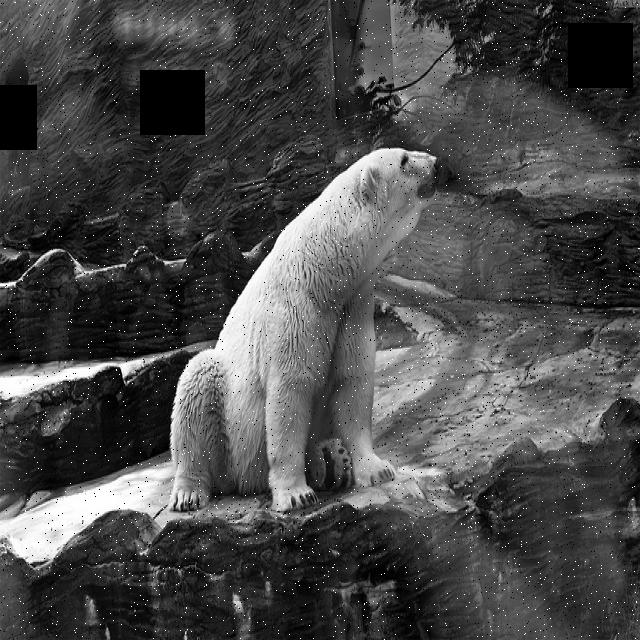Bear: (163, 144, 452, 516)
